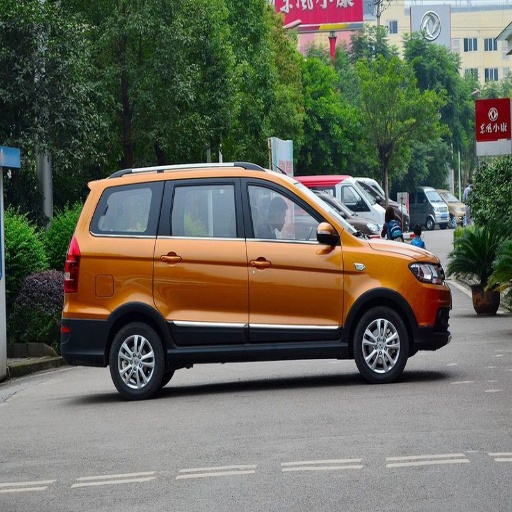back_right_door: (128, 175, 247, 347)
front_right_door: (244, 175, 344, 339)
